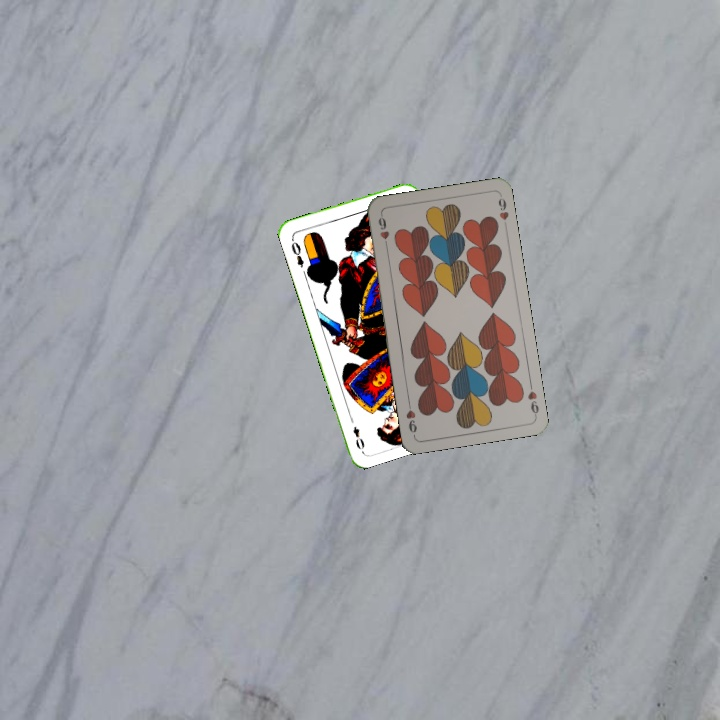EO: (287, 234, 307, 270)
H9: (374, 211, 392, 251), (524, 378, 541, 419)
